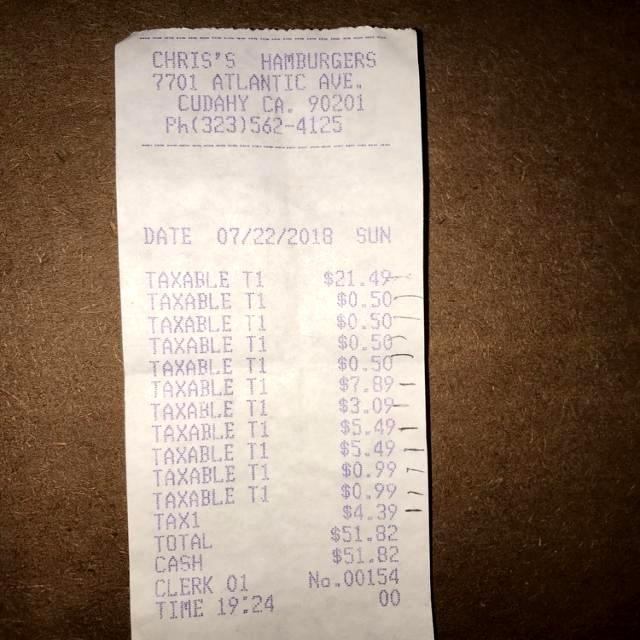Paper: (110, 21, 436, 636)
